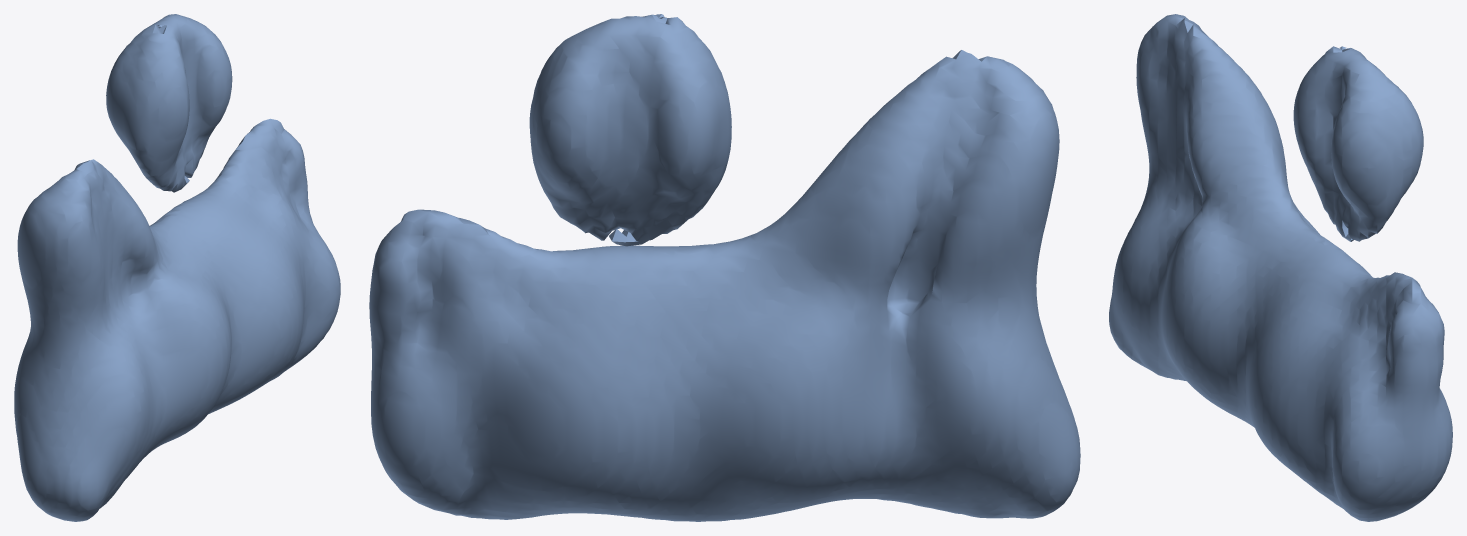
Rendered from envelope.classical.von_mises.p90.glb.
3 views of the same model, side by side, from view 1: azimuth 30°, elevation 25°; view 2: azimuth 150°, elevation 25°; view 3: azimuth 270°, elevation 25° (orthographic). The views are drawn at different scales.
Parts seen in each view (by area): view 1: envelope.classical.von_mises.p90; view 2: envelope.classical.von_mises.p90; view 3: envelope.classical.von_mises.p90.
Boxes of the visible parts, x1,y1,x2,y2 form: envelope.classical.von_mises.p90: (14, 14, 340, 521); envelope.classical.von_mises.p90: (369, 14, 1080, 521); envelope.classical.von_mises.p90: (1109, 14, 1452, 521).
Bounding box in the file's own units: 11.25 × 10.33 × 7.85.
